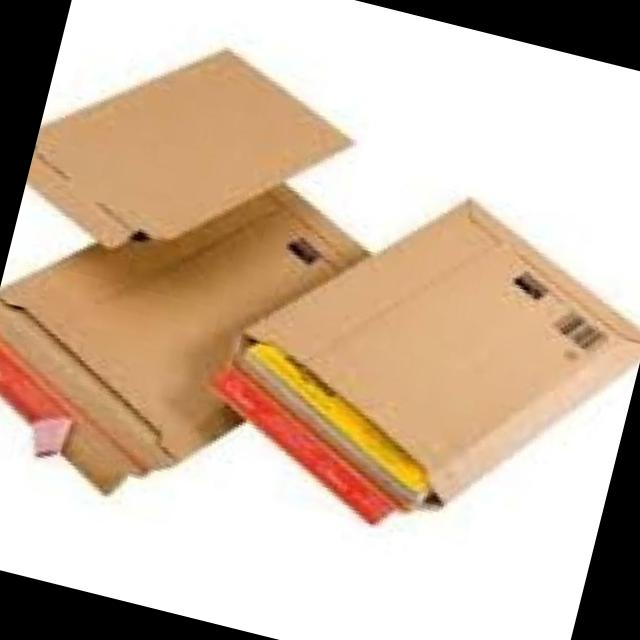cardboard paper: (215, 198, 640, 520), (0, 183, 366, 489), (26, 48, 351, 244)
